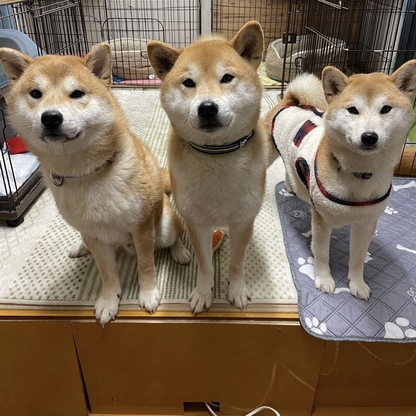shiba: (1, 34, 170, 326), (141, 14, 273, 316), (260, 57, 416, 305)
